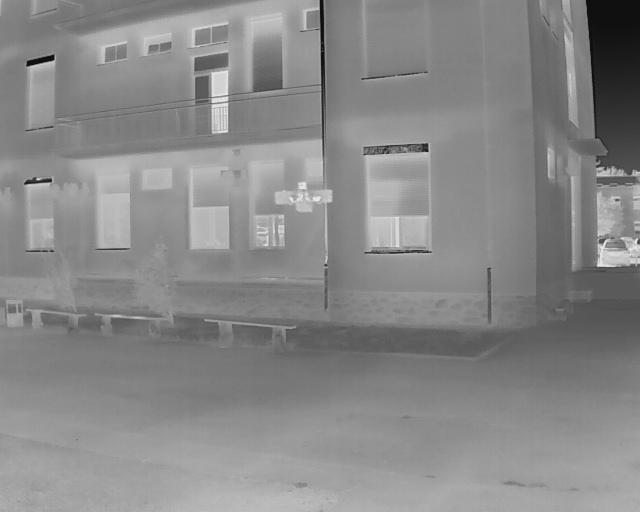drone: (264, 181, 334, 214)
